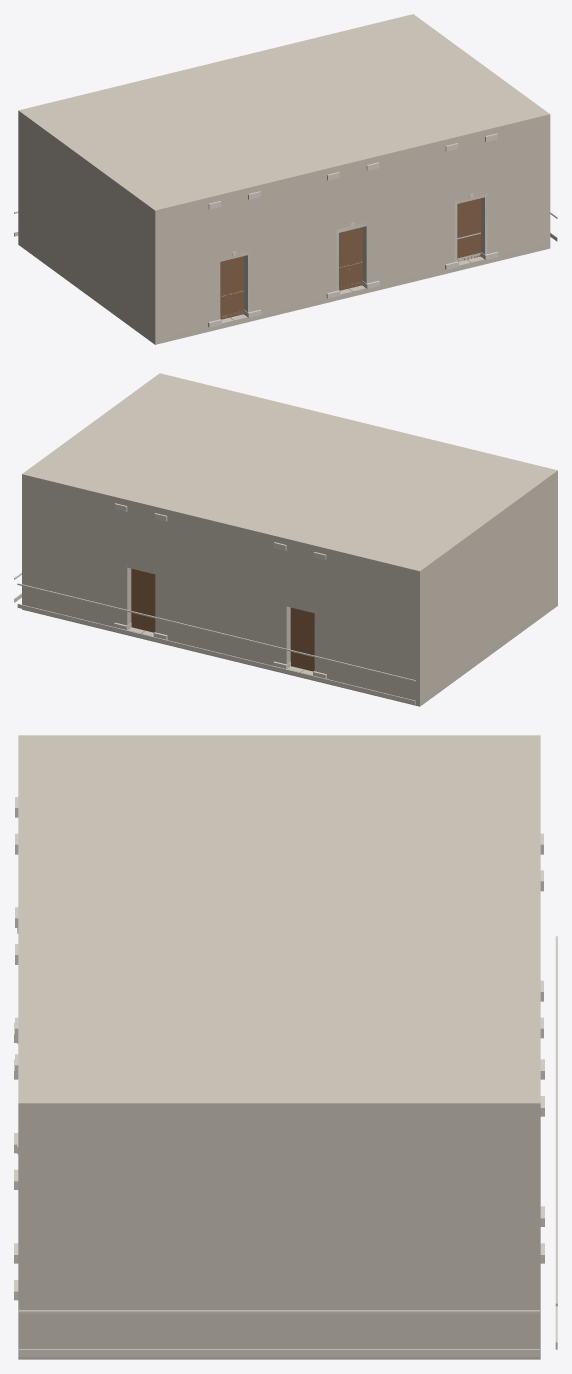
The picture shows the model from 3 angles, top to bottom: view 1: azimuth 30°, elevation 25°; view 2: azimuth 150°, elevation 25°; view 3: azimuth 270°, elevation 25°; orthographic projection. The views are drawn at different scales.
Visible parts, largest first — view 1: Ceiling, Wall_Left, Front_pier2, Front_pier4, Front_pier0, Front_pier6, Floor, Front_transom1, Front_transom5, Front_transom3, Door_F_-6, Door_F_0 (+3 smaller); view 2: Ceiling, Wall_Left, Back_pier2, Back_pier0, Back_pier4, Skirt_FB_6.0, Back_transom1, Back_transom3, Floor, Door_B_4, Door_B_-4, Dado_FB_6.0 (+2 smaller); view 3: Ceiling, Wall_Right, Skirt_LR_10.0, Dado_LR_10.0, Front_pier6, Back_pier4, Floor, Dado_FB_6.0.
Part boxes in pixels (bbox=[...]): Ceiling: bbox=[18, 14, 550, 215]; Wall_Left: bbox=[18, 116, 161, 339]; Front_pier2: bbox=[244, 171, 338, 313]; Front_pier4: bbox=[362, 142, 457, 284]; Front_pier0: bbox=[151, 200, 220, 339]; Front_pier6: bbox=[481, 121, 550, 255]; Floor: bbox=[18, 240, 550, 344]; Front_transom1: bbox=[220, 193, 247, 261]; Front_transom5: bbox=[457, 135, 484, 203]; Front_transom3: bbox=[339, 164, 366, 230]; Door_F_-6: bbox=[220, 256, 243, 319]; Door_F_0: bbox=[339, 227, 362, 290]; Ceiling: bbox=[22, 373, 557, 576]; Wall_Left: bbox=[413, 479, 553, 701]; Back_pier2: bbox=[155, 512, 290, 665]; Back_pier0: bbox=[314, 551, 423, 701]; Back_pier4: bbox=[22, 480, 131, 626]; Skirt_FB_6.0: bbox=[17, 603, 415, 704]; Back_transom1: bbox=[286, 544, 314, 613]; Back_transom3: bbox=[127, 505, 155, 574]; Floor: bbox=[22, 601, 557, 706]; Door_B_4: bbox=[131, 568, 155, 632]; Door_B_-4: bbox=[290, 607, 314, 671]; Dado_FB_6.0: bbox=[17, 583, 415, 681]; Ceiling: bbox=[18, 735, 540, 1112]; Wall_Right: bbox=[18, 1113, 540, 1349]; Skirt_LR_10.0: bbox=[18, 1349, 539, 1356]; Dado_LR_10.0: bbox=[18, 1310, 539, 1313]; Front_pier6: bbox=[18, 1113, 33, 1348]; Back_pier4: bbox=[525, 1113, 540, 1348]; Floor: bbox=[18, 1349, 540, 1359]; Dado_FB_6.0: bbox=[555, 936, 557, 1306].
Size of the model in its own units: 20.4 by 6.5 by 12.5.
